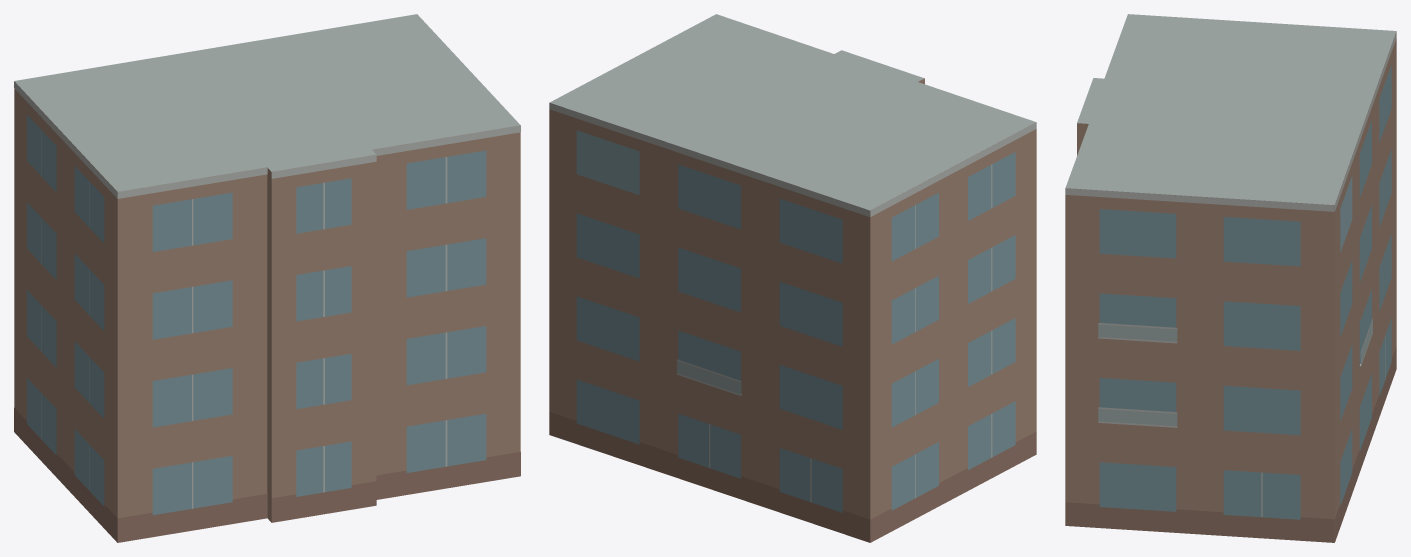
The model's file is survey-upis-32807172.glb.
3 renders of one model, left to right at view 1: azimuth 30°, elevation 25°; view 2: azimuth 150°, elevation 25°; view 3: azimuth 270°, elevation 25°, orthographic. The views are drawn at different scales.
Visible parts, largest first — view 1: survey-upis-32807172.tmp; view 2: survey-upis-32807172.tmp; view 3: survey-upis-32807172.tmp.
Boxes of the visible parts, <box> form: survey-upis-32807172.tmp: <box>14,14,520,542</box>; survey-upis-32807172.tmp: <box>549,14,1036,542</box>; survey-upis-32807172.tmp: <box>1065,14,1396,542</box>.
Size of the model in its own units: 14.82 by 12.2 by 10.86.
